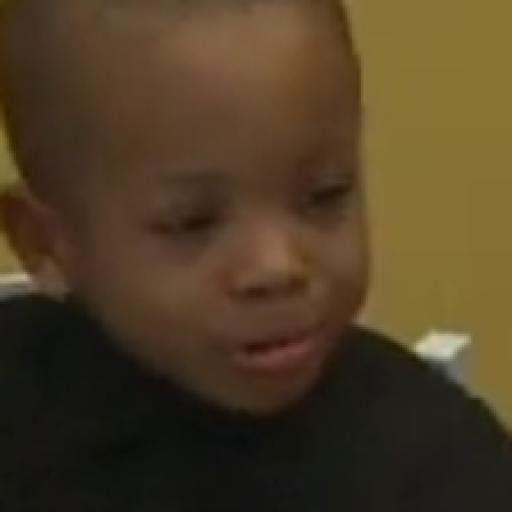Autism: (10, 14, 406, 465)
